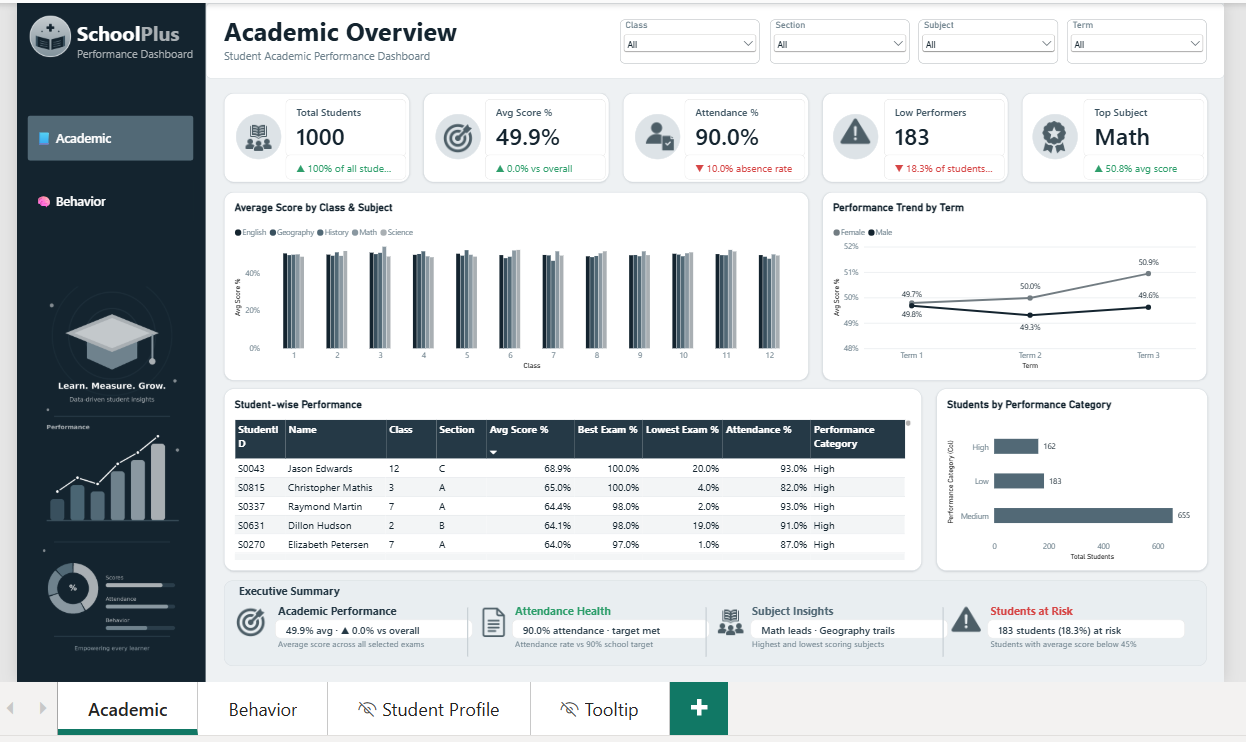

The dashboard page shown, as its layout file describes it:
{"tool":"powerbi","page":{"name":"Academic","canvas":[1920,1080],"ordinal":0},"visuals":[{"type":"actionButton","box":[18,165,264,72],"z":0},{"type":"textbox","box":[0,0,300,1080],"z":1000},{"type":"textbox","box":[96,26,190,44],"z":2000},{"type":"textbox","box":[96,68,190,26],"z":3000},{"type":"textbox","box":[330,918,1563,136],"z":4000},{"type":"actionButton","box":[16.7,180,264,72],"z":5000},{"type":"textbox","box":[352,924,400,28],"z":6000},{"type":"actionButton","box":[16.7,280,264,72],"z":7000},{"type":"textbox","box":[352,956,56,56],"z":8000},{"type":"textbox","box":[414,954,300,26],"z":9000},{"type":"textbox","box":[300,0,1620,120],"z":10000},{"type":"textbox","box":[330,16,600,56],"z":11000},{"type":"cardVisual","fields":{"Data":["_Measures.ES Academic 1"]},"box":[410,980,314,30],"z":12000},{"type":"textbox","box":[414,1010,300,38],"z":13000},{"type":"textbox","box":[330,72,600,34],"z":14000},{"type":"slicer","fields":{"Values":["Students.Class"]},"box":[960,27,222,70],"z":15000},{"type":"textbox","box":[716,962,2,78],"z":16000},{"type":"slicer","fields":{"Values":["Students.Section"]},"box":[1197,27,222,70],"z":17000},{"type":"textbox","box":[730,956,56,56],"z":18000},{"type":"slicer","fields":{"Values":["Scores.Subject"]},"box":[1434,27,222,70],"z":19000},{"type":"textbox","box":[792,954,300,26],"z":20000},{"type":"cardVisual","fields":{"Data":["_Measures.ES Academic 2"]},"box":[788,980,314,30],"z":21000},{"type":"slicer","fields":{"Values":["Scores.Term"]},"box":[1671,27,222,70],"z":22000},{"type":"textbox","box":[792,1010,300,38],"z":23000},{"type":"textbox","box":[330,142,295,142],"z":24000},{"type":"textbox","box":[348,177,72,72],"z":25000},{"type":"textbox","box":[1094,962,2,78],"z":26000},{"type":"textbox","box":[1108,956,56,56],"z":27000},{"type":"cardVisual","fields":{"Data":["_Measures.Total Students"]},"box":[428,152,192,92],"z":28000},{"type":"textbox","box":[1170,954,300,26],"z":29000},{"type":"cardVisual","fields":{"Data":["_Measures.KPI Sub Students"]},"box":[428,240,192,40],"z":30000},{"type":"image","box":[18,450,264,600],"z":30000},{"type":"image","box":[20,20,68,68],"z":31000},{"type":"cardVisual","fields":{"Data":["_Measures.ES Academic 3"]},"box":[1166,980,314,30],"z":31000},{"type":"textbox","box":[647,142,295,142],"z":32000},{"type":"textbox","box":[665,177,72,72],"z":33000},{"type":"textbox","box":[1170,1010,300,38],"z":34000},{"type":"cardVisual","fields":{"Data":["_Measures.Avg Score %"]},"box":[745,152,192,92],"z":35000},{"type":"textbox","box":[1472,962,2,78],"z":36000},{"type":"cardVisual","fields":{"Data":["_Measures.KPI Sub Score"]},"box":[745,240,192,40],"z":37000},{"type":"textbox","box":[1486,956,56,56],"z":38000},{"type":"textbox","box":[1548,954,300,26],"z":39000},{"type":"textbox","box":[964,142,295,142],"z":40000},{"type":"cardVisual","fields":{"Data":["_Measures.ES Academic 4"]},"box":[1544,980,314,30],"z":41000},{"type":"textbox","box":[982,177,72,72],"z":42000},{"type":"cardVisual","fields":{"Data":["_Measures.Attendance %"]},"box":[1062,152,192,92],"z":43000},{"type":"textbox","box":[1548,1010,300,38],"z":44000},{"type":"cardVisual","fields":{"Data":["_Measures.KPI Sub Absent"]},"box":[1062,240,192,40],"z":45000},{"type":"textbox","box":[1281,142,295,142],"z":46000},{"type":"textbox","box":[1299,177,72,72],"z":47000},{"type":"cardVisual","fields":{"Data":["_Measures.Low Performers"]},"box":[1379,152,192,92],"z":48000},{"type":"cardVisual","fields":{"Data":["_Measures.KPI Sub Low"]},"box":[1379,240,192,40],"z":49000},{"type":"textbox","box":[1598,142,295,142],"z":50000},{"type":"textbox","box":[1616,177,72,72],"z":51000},{"type":"cardVisual","fields":{"Data":["_Measures.Top Subject"]},"box":[1696,152,192,92],"z":52000},{"type":"cardVisual","fields":{"Data":["_Measures.KPI Sub Top"]},"box":[1696,240,192,40],"z":53000},{"type":"clusteredColumnChart","title":"Average Score by Class & Subject","fields":{"Category":["Students.Class"],"Series":["Scores.Subject"],"Y":["_Measures.Avg Score %"]},"box":[330,300,930,300],"z":54000},{"type":"lineChart","title":"Performance Trend by Term","fields":{"Category":["Scores.Term"],"Series":["Students.Gender"],"Y":["_Measures.Avg Score %"]},"box":[1282,300,611,300],"z":55000},{"type":"tableEx","title":"Student-wise Performance","fields":{"Values":["Students.StudentID","Students.Name","Students.Class","Students.Section","_Measures.Avg Score %","_Measures.Best Exam %","_Measures.Lowest Exam %","_Measures.Attendance %","_Measures.Performance Category"]},"box":[330,614,1110,290],"z":56000},{"type":"clusteredBarChart","title":"Students by Performance Category","fields":{"Category":["Students.Performance Category (Col)"],"Y":["_Measures.Total Students"]},"box":[1462,614,431,290],"z":57000},{"type":"image","box":[357.5,190,52.5,47.5],"z":58000},{"type":"image","box":[677.5,185,47.5,57.5],"z":59000},{"type":"image","box":[990,187.5,65,47.5],"z":60000},{"type":"image","box":[1310,180,47.5,50],"z":61000},{"type":"image","box":[1622.4,178.9,54.9,69.2],"z":62000},{"type":"image","box":[348.3,958.3,46.7,51.7],"z":63000},{"type":"image","box":[735,958.3,46.7,51.7],"z":64000},{"type":"image","box":[1111.7,958.3,46.7,51.7],"z":65000},{"type":"image","box":[1486.7,953.3,46.7,51.7],"z":66000}]}

Visuals, with their boxes on the page's 1920x1080 design canvas (x1, y1, x2, y2). These are canvas units, not pixel positions in the 1246x742 screenshot, which may show the page scaled, cropped or inside an application window:
actionButton: Rect(18, 165, 282, 237)
textbox: Rect(0, 0, 300, 1080)
textbox: Rect(96, 26, 286, 70)
textbox: Rect(96, 68, 286, 94)
textbox: Rect(330, 918, 1893, 1054)
actionButton: Rect(17, 180, 281, 252)
textbox: Rect(352, 924, 752, 952)
actionButton: Rect(17, 280, 281, 352)
textbox: Rect(352, 956, 408, 1012)
textbox: Rect(414, 954, 714, 980)
textbox: Rect(300, 0, 1920, 120)
textbox: Rect(330, 16, 930, 72)
cardVisual - _Measures.ES Academic 1: Rect(410, 980, 724, 1010)
textbox: Rect(414, 1010, 714, 1048)
textbox: Rect(330, 72, 930, 106)
slicer - Students.Class: Rect(960, 27, 1182, 97)
textbox: Rect(716, 962, 718, 1040)
slicer - Students.Section: Rect(1197, 27, 1419, 97)
textbox: Rect(730, 956, 786, 1012)
slicer - Scores.Subject: Rect(1434, 27, 1656, 97)
textbox: Rect(792, 954, 1092, 980)
cardVisual - _Measures.ES Academic 2: Rect(788, 980, 1102, 1010)
slicer - Scores.Term: Rect(1671, 27, 1893, 97)
textbox: Rect(792, 1010, 1092, 1048)
textbox: Rect(330, 142, 625, 284)
textbox: Rect(348, 177, 420, 249)
textbox: Rect(1094, 962, 1096, 1040)
textbox: Rect(1108, 956, 1164, 1012)
cardVisual - _Measures.Total Students: Rect(428, 152, 620, 244)
textbox: Rect(1170, 954, 1470, 980)
cardVisual - _Measures.KPI Sub Students: Rect(428, 240, 620, 280)
image: Rect(18, 450, 282, 1050)
image: Rect(20, 20, 88, 88)
cardVisual - _Measures.ES Academic 3: Rect(1166, 980, 1480, 1010)
textbox: Rect(647, 142, 942, 284)
textbox: Rect(665, 177, 737, 249)
textbox: Rect(1170, 1010, 1470, 1048)
cardVisual - _Measures.Avg Score %: Rect(745, 152, 937, 244)
textbox: Rect(1472, 962, 1474, 1040)
cardVisual - _Measures.KPI Sub Score: Rect(745, 240, 937, 280)
textbox: Rect(1486, 956, 1542, 1012)
textbox: Rect(1548, 954, 1848, 980)
textbox: Rect(964, 142, 1259, 284)
cardVisual - _Measures.ES Academic 4: Rect(1544, 980, 1858, 1010)
textbox: Rect(982, 177, 1054, 249)
cardVisual - _Measures.Attendance %: Rect(1062, 152, 1254, 244)
textbox: Rect(1548, 1010, 1848, 1048)
cardVisual - _Measures.KPI Sub Absent: Rect(1062, 240, 1254, 280)
textbox: Rect(1281, 142, 1576, 284)
textbox: Rect(1299, 177, 1371, 249)
cardVisual - _Measures.Low Performers: Rect(1379, 152, 1571, 244)
cardVisual - _Measures.KPI Sub Low: Rect(1379, 240, 1571, 280)
textbox: Rect(1598, 142, 1893, 284)
textbox: Rect(1616, 177, 1688, 249)
cardVisual - _Measures.Top Subject: Rect(1696, 152, 1888, 244)
cardVisual - _Measures.KPI Sub Top: Rect(1696, 240, 1888, 280)
"Average Score by Class & Subject" clusteredColumnChart: Rect(330, 300, 1260, 600)
"Performance Trend by Term" lineChart: Rect(1282, 300, 1893, 600)
"Student-wise Performance" tableEx: Rect(330, 614, 1440, 904)
"Students by Performance Category" clusteredBarChart: Rect(1462, 614, 1893, 904)
image: Rect(358, 190, 410, 238)
image: Rect(678, 185, 725, 242)
image: Rect(990, 188, 1055, 235)
image: Rect(1310, 180, 1358, 230)
image: Rect(1622, 179, 1677, 248)
image: Rect(348, 958, 395, 1010)
image: Rect(735, 958, 782, 1010)
image: Rect(1112, 958, 1158, 1010)
image: Rect(1487, 953, 1533, 1005)
